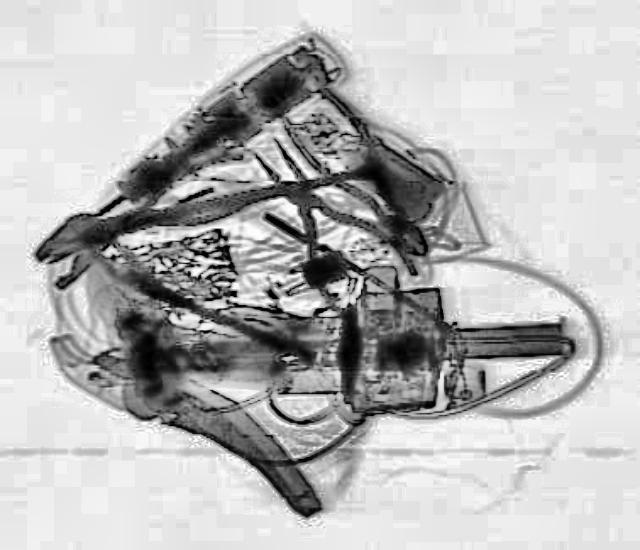Pliers: (212, 119, 426, 319), (266, 82, 458, 270), (63, 146, 270, 266)
